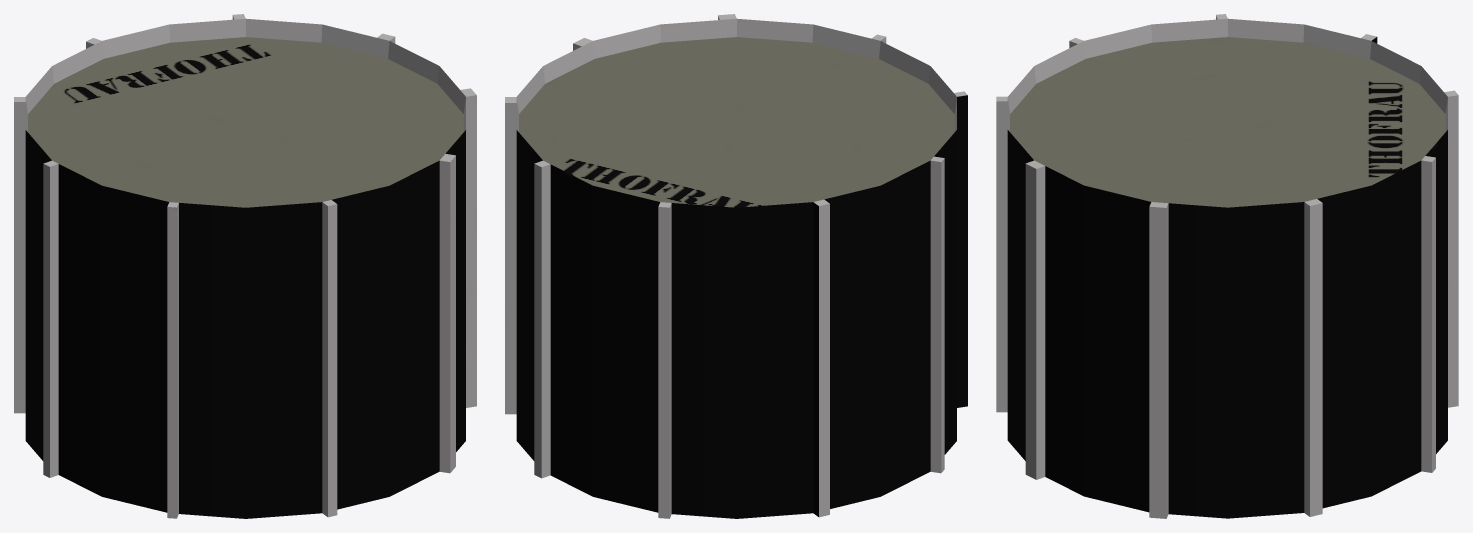
The model's file is drum.FBX.
3 views of the same model, side by side, from view 1: azimuth 30°, elevation 25°; view 2: azimuth 150°, elevation 25°; view 3: azimuth 270°, elevation 25° (orthographic).
Parts seen in each view (by area): view 1: Cylinder001; view 2: Cylinder001; view 3: Cylinder001.
Boxes of the visible parts, bbox=[...] form: Cylinder001: bbox=[14, 14, 476, 518]; Cylinder001: bbox=[505, 14, 967, 518]; Cylinder001: bbox=[996, 14, 1458, 518].
Size of the model in its own units: 80.04 by 59.83 by 80.62.
